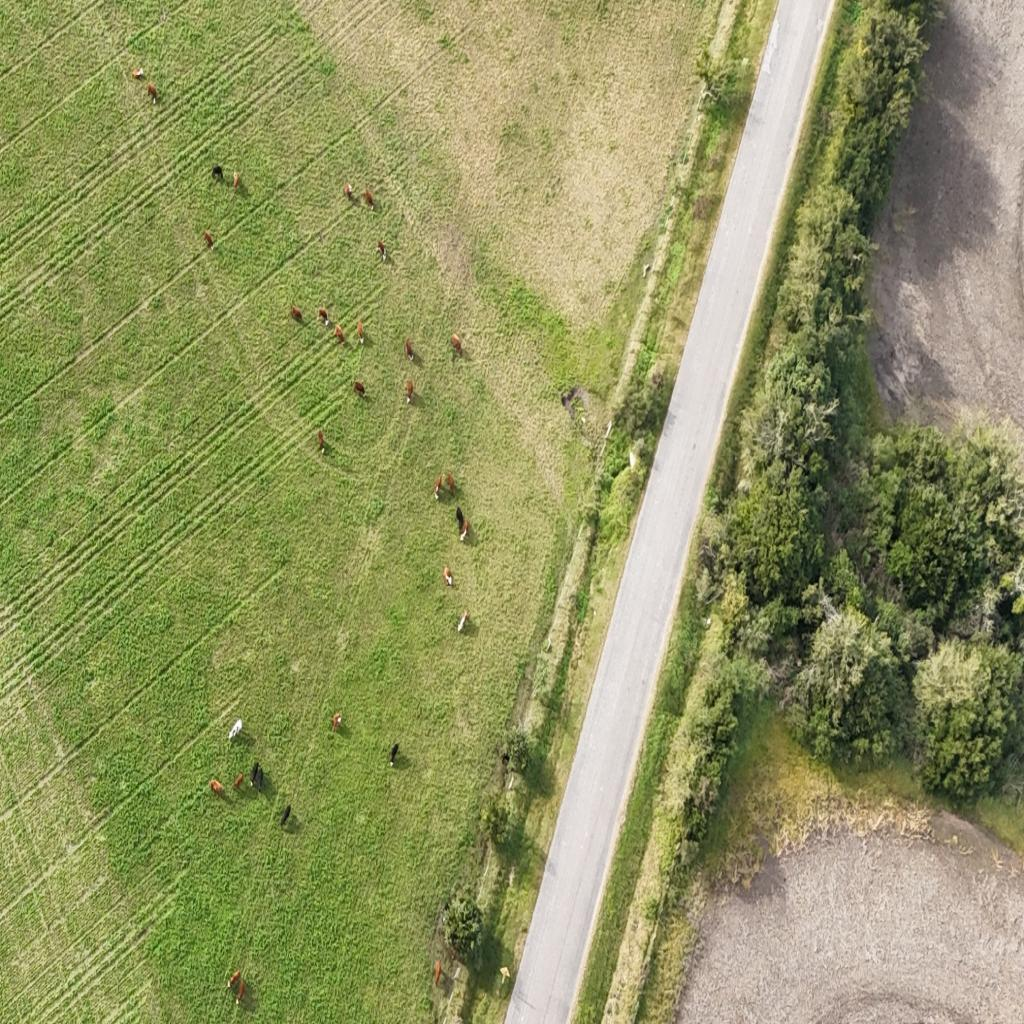cow: (228, 718, 243, 741), (458, 520, 471, 546), (249, 758, 259, 788), (280, 803, 291, 828), (236, 980, 246, 1007), (451, 334, 462, 356), (209, 779, 223, 796), (455, 503, 464, 529), (230, 969, 241, 990), (434, 960, 442, 988), (334, 324, 345, 344), (443, 566, 453, 588), (147, 82, 157, 104), (390, 742, 399, 766), (257, 768, 265, 795), (291, 306, 303, 324), (363, 188, 373, 209), (354, 380, 365, 399), (447, 945, 458, 964), (435, 475, 443, 501), (332, 713, 342, 733), (356, 320, 364, 345), (500, 752, 510, 772), (456, 614, 466, 634), (405, 338, 414, 360), (377, 240, 386, 262), (233, 773, 245, 789), (318, 308, 328, 327), (446, 472, 454, 494), (405, 378, 413, 400), (344, 182, 353, 201), (212, 165, 222, 181), (203, 232, 213, 248), (132, 67, 144, 79), (318, 429, 324, 451), (234, 170, 240, 188)
